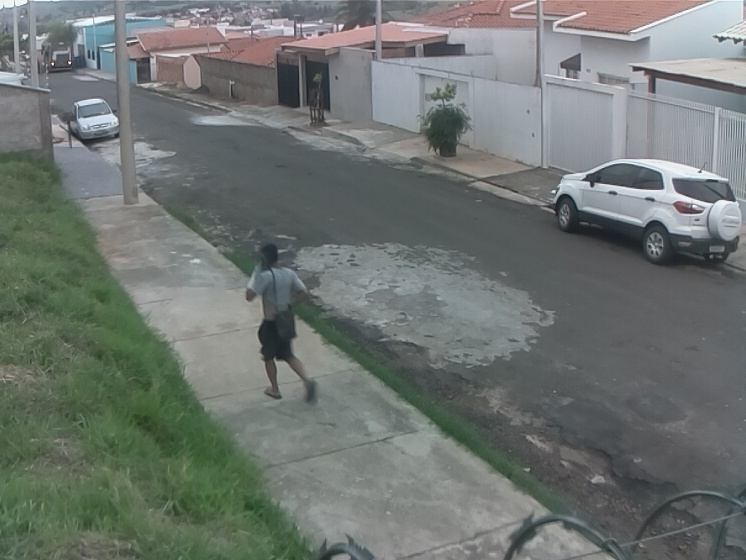person: (244, 241, 328, 408)
